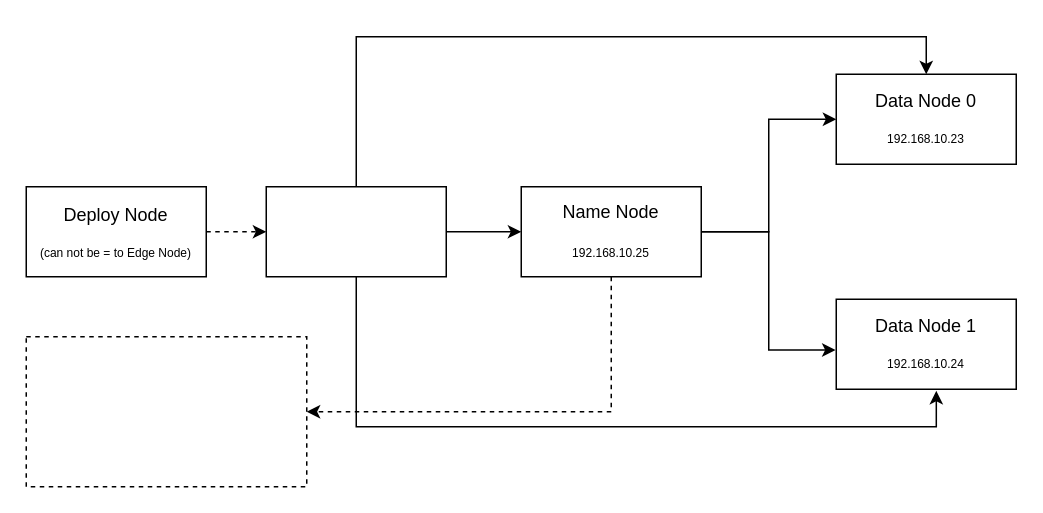
The diagram is 1043 pixels wide and 513 high, and some of its shapes have lost their labels. Each missing label, with the centre of its shape:
Edge Node 178.236.25.103 192.168.10.53: the point at 355,231
Порты 9870 - Hadoop 8088 - Resource Manager 19888 - JobHistory 10002 - Hive: the point at 166,411
